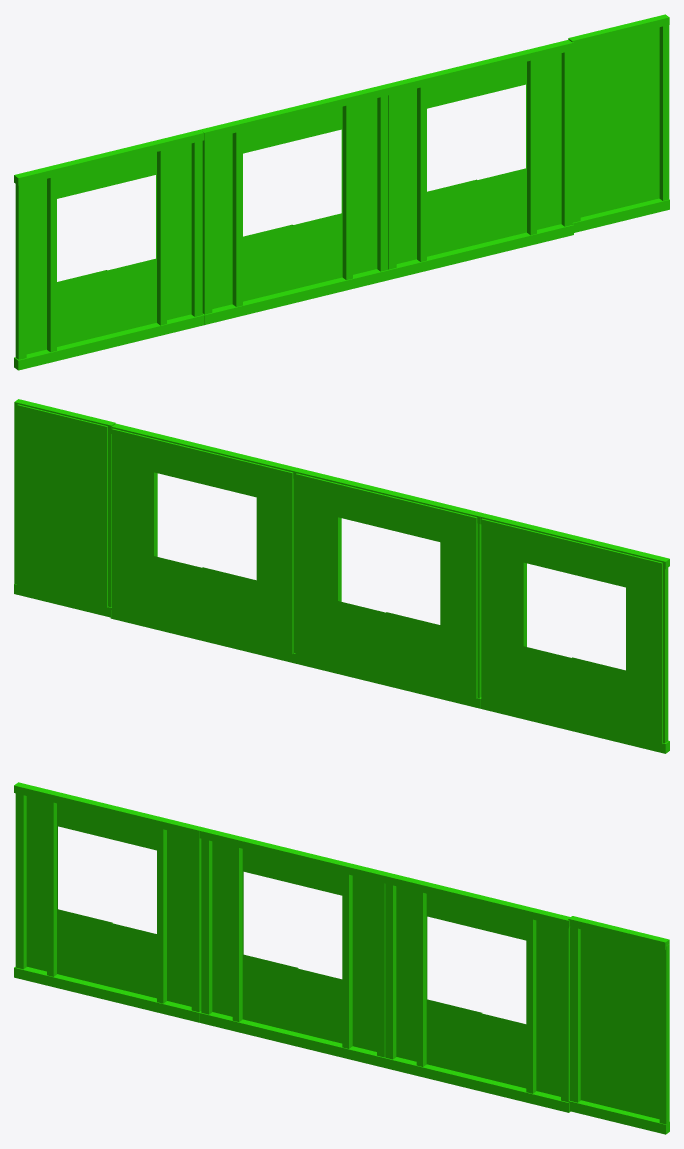
The model's file is HT_01_Wall_01.fbx.
The picture shows the model from 3 angles, top to bottom: view 1: azimuth 30°, elevation 25°; view 2: azimuth 150°, elevation 25°; view 3: azimuth 330°, elevation 25°; orthographic projection.
Visible parts, largest first — view 1: HT_01_Wall_01; view 2: HT_01_Wall_01; view 3: HT_01_Wall_01.
Part boxes in pixels (bbox=[...]): HT_01_Wall_01: bbox=[14, 14, 669, 370]; HT_01_Wall_01: bbox=[14, 399, 669, 753]; HT_01_Wall_01: bbox=[14, 782, 669, 1134].
Size of the model in its own units: 1055 by 299 by 15.86.
